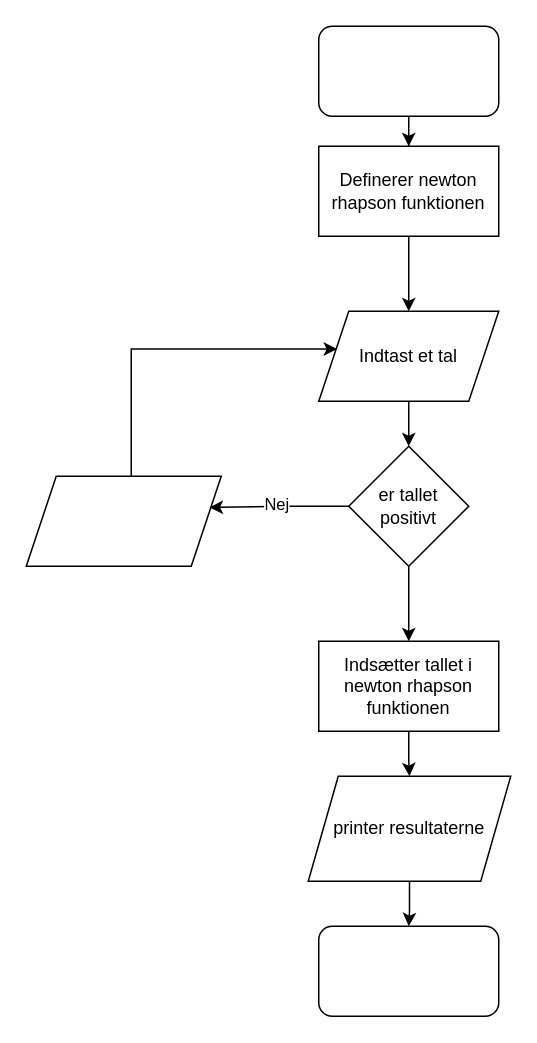
Image size: 537x1043. Some labels were removed from this diagram. Each missing label, with the box of its shape:
indtast venligst et positivt tal: (25, 475, 221, 566)
Start: (317, 25, 499, 116)
Stop: (317, 925, 499, 1016)
